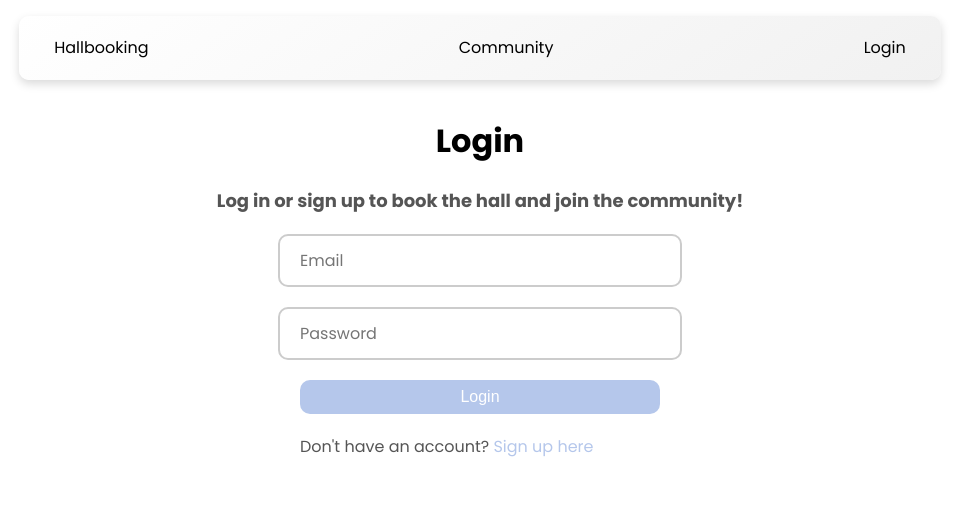
Test: Login Page › should show an error message with invalid credentials
The width and height of the screenshot is (961, 509).
In the field named "email": (480, 261) x1=278 y1=234 x2=682 y2=287, type "invaliduser@example.com"
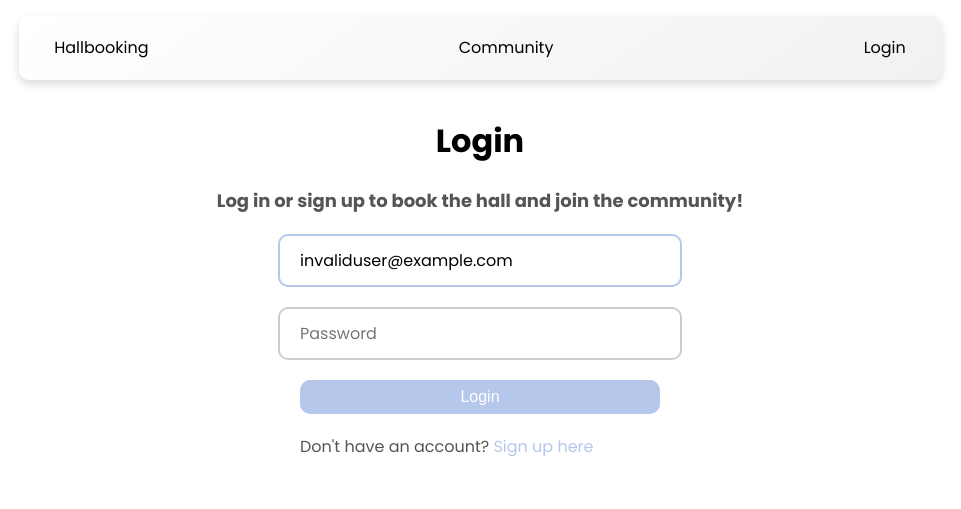
In the password field named "password": (480, 334) x1=278 y1=307 x2=682 y2=360, type "wrongpassword"
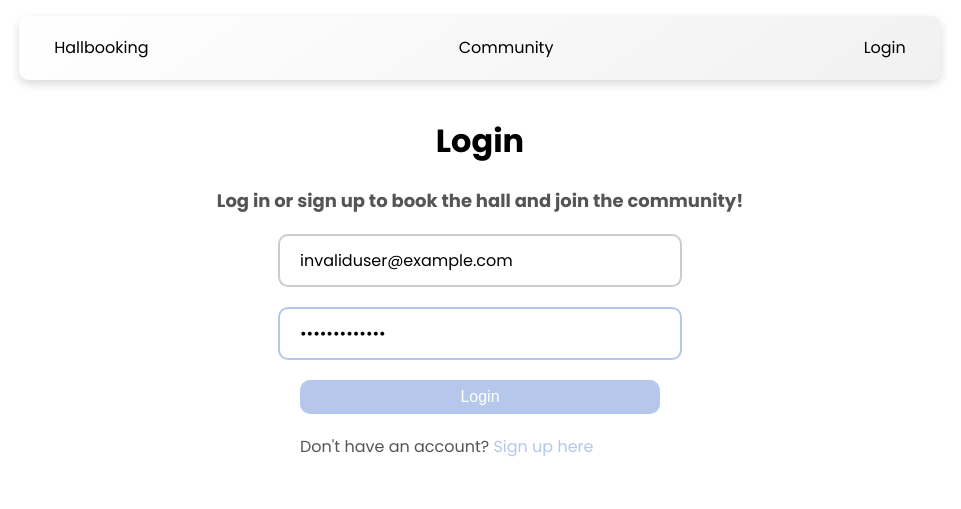
Click the submit button: (480, 397) x1=300 y1=380 x2=660 y2=414
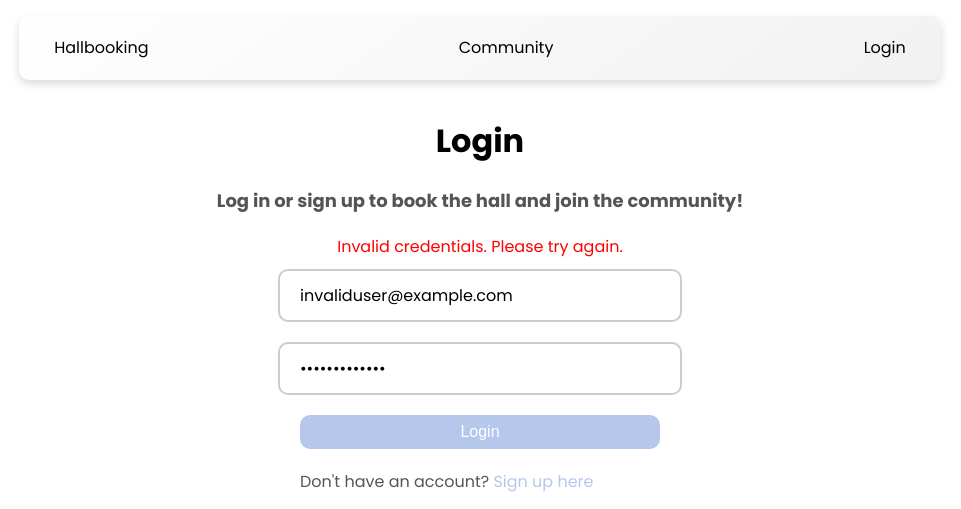
Expected: the text "Invalid credentials. Please try again." is shown, x1=337 y1=234 x2=623 y2=259
Expected: the text with class "error-message" reads "Invalid credentials. Please try again.", x1=337 y1=235 x2=623 y2=258
